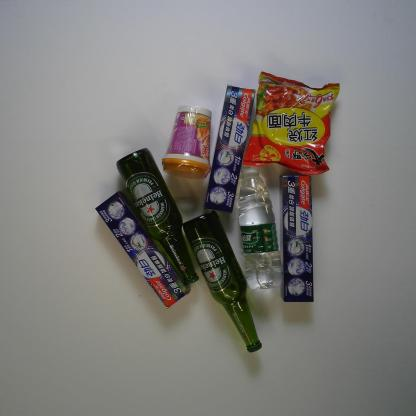Alcohol: (116, 147, 200, 286), (182, 210, 263, 353)
Drink: (237, 163, 284, 291)
Instant Drink: (160, 104, 212, 181)
Instant Noodles: (242, 71, 340, 177)
Personal Hygiene: (95, 191, 191, 310), (202, 84, 256, 214), (277, 173, 315, 304)
